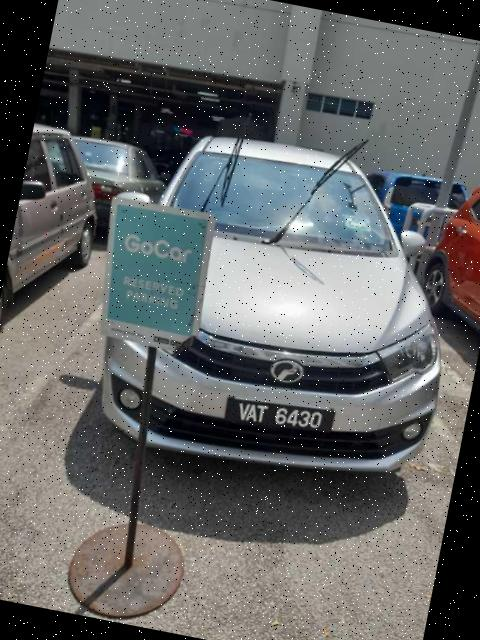License_Plate: (223, 390, 337, 443)
car: (70, 110, 480, 501)
